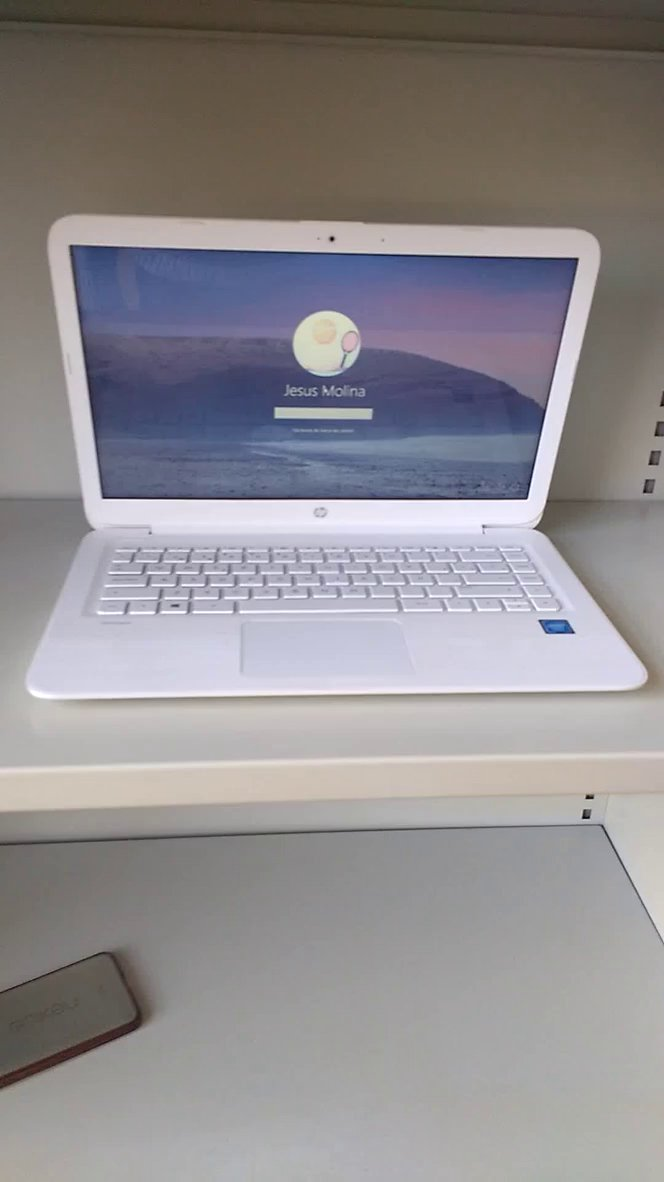laptop: (21, 169, 664, 738)
